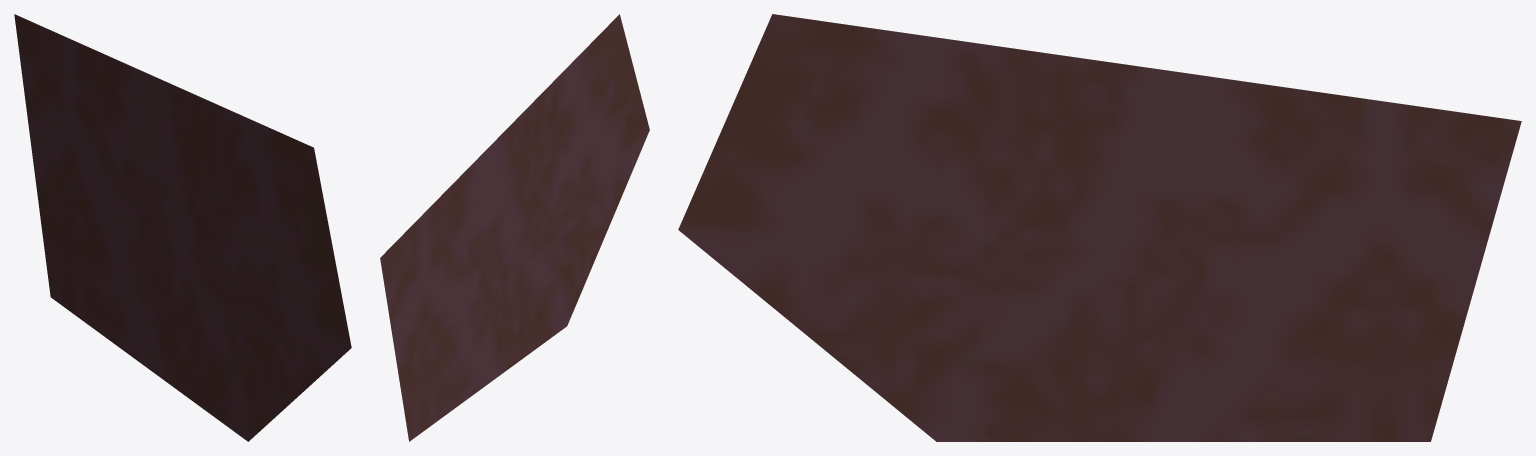
Rendered from Past_BrokenWall7.fbx.
The picture shows the model from 3 angles, left to right: view 1: azimuth 30°, elevation 25°; view 2: azimuth 150°, elevation 25°; view 3: azimuth 270°, elevation 25°; orthographic projection. The views are drawn at different scales.
Visible parts, largest first — view 1: polySurface411; view 2: polySurface411; view 3: polySurface411.
Boxes of the visible parts, <box> form: polySurface411: <box>14,14,351,441</box>; polySurface411: <box>380,14,649,441</box>; polySurface411: <box>678,14,1521,441</box>.
Size of the model in its own units: 6.1e-05 by 64.95 by 116.
1 material, 1 textured.
